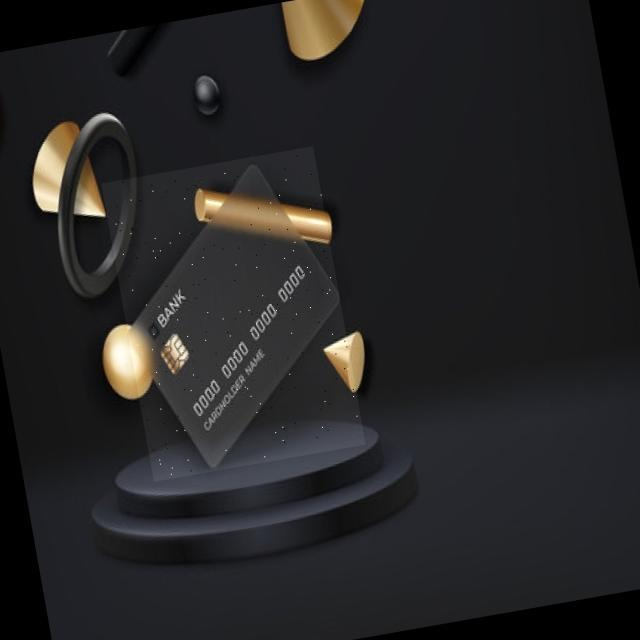payment_card: (121, 162, 343, 469)
